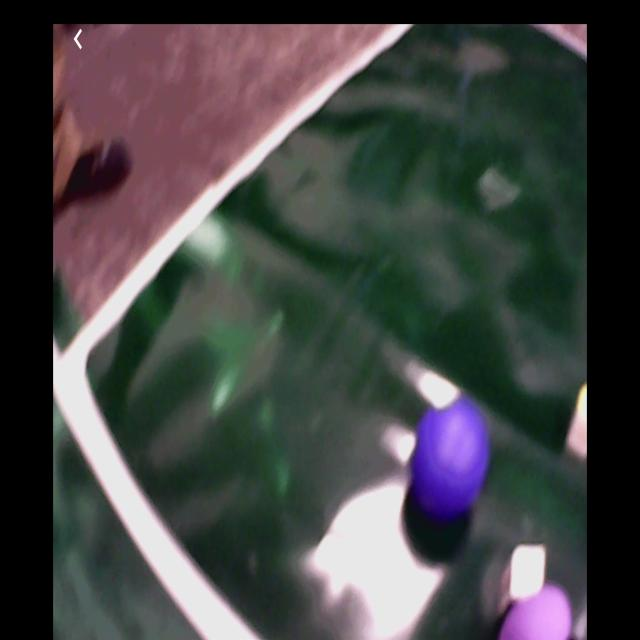ball: (416, 399, 490, 517), (499, 585, 574, 640)
